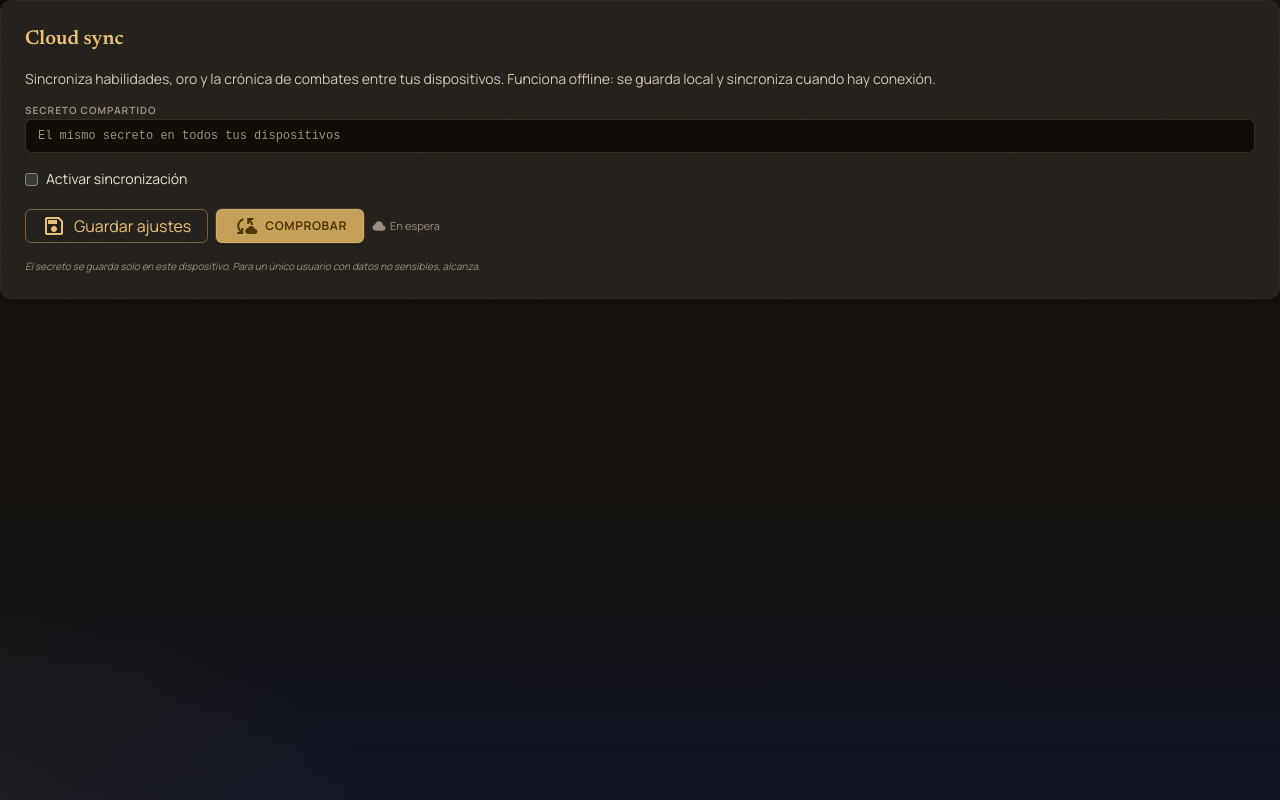
Test: CloudSyncSettings — enabling without a secret › says the secret is missing when the box is ticked with an empty field
Expected: the text "falta el secreto compartido" is not shown
Click the checkbox labelled "Activar sincronización" at (32, 179), box 25,172 -> 38,186
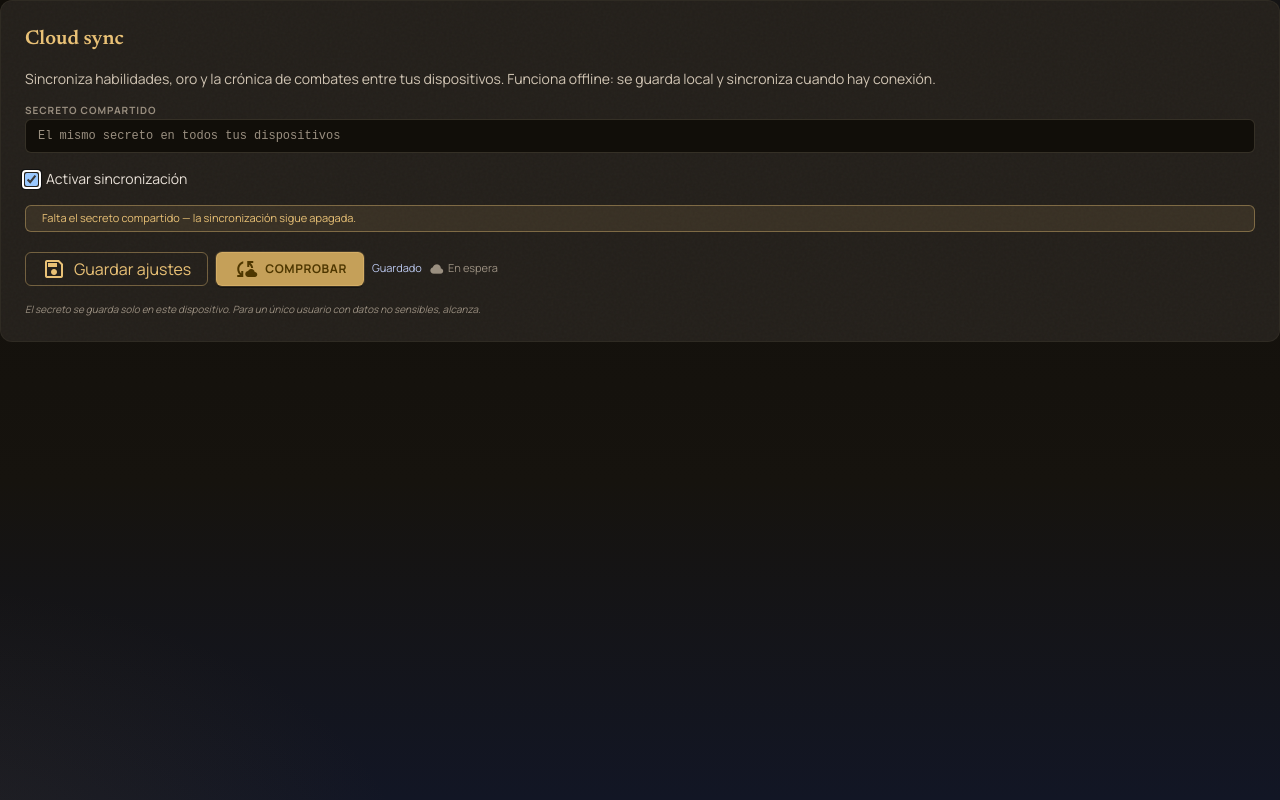
Result: the checkbox labelled "Activar sincronización" is checked at 25,172 -> 38,186
Result: the message shows "Falta el secreto compartido" at 42,210 -> 356,225
